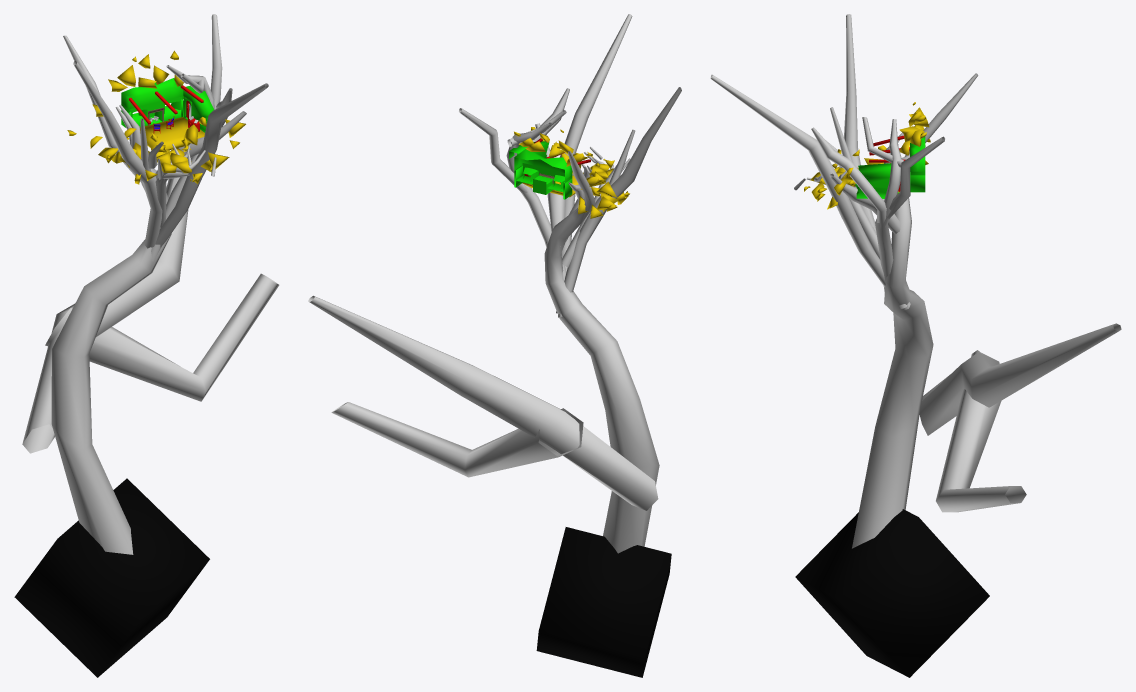
Rendered from CnMRoomGuide.fbx.
3 views of the same model, side by side, from view 1: azimuth 30°, elevation 25°; view 2: azimuth 150°, elevation 25°; view 3: azimuth 270°, elevation 25° (orthographic). The views are drawn at different scales.
Parts seen in each view (by area): view 1: treeOfYore, fragment.039, nWall, floor, windowWallD.001; view 2: treeOfYore, fragment.039, nWall; view 3: treeOfYore, fragment.039, windowWallD.001.
Part boxes in pixels (<box>): treeOfYore: <box>22,14,279,554</box>; fragment.039: <box>14,478,209,677</box>; nWall: <box>121,78,183,109</box>; floor: <box>140,117,204,150</box>; windowWallD.001: <box>183,86,214,132</box>; treeOfYore: <box>308,14,681,553</box>; fragment.039: <box>536,527,671,677</box>; nWall: <box>514,149,572,179</box>; treeOfYore: <box>710,14,1121,548</box>; fragment.039: <box>795,509,989,677</box>; windowWallD.001: <box>855,163,891,198</box>.
Bounding box in the file's own units: 4162 × 8359 × 4967.
